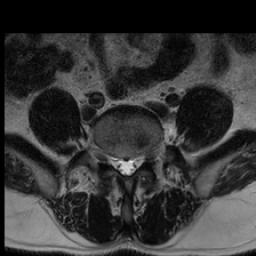CCS_stenosis: (121, 148, 130, 181)
LFS_normal: (139, 144, 148, 171)
LLS_normal: (130, 148, 138, 178)
RFS_normal: (103, 145, 113, 172)
RLS_normal: (113, 147, 121, 177)
